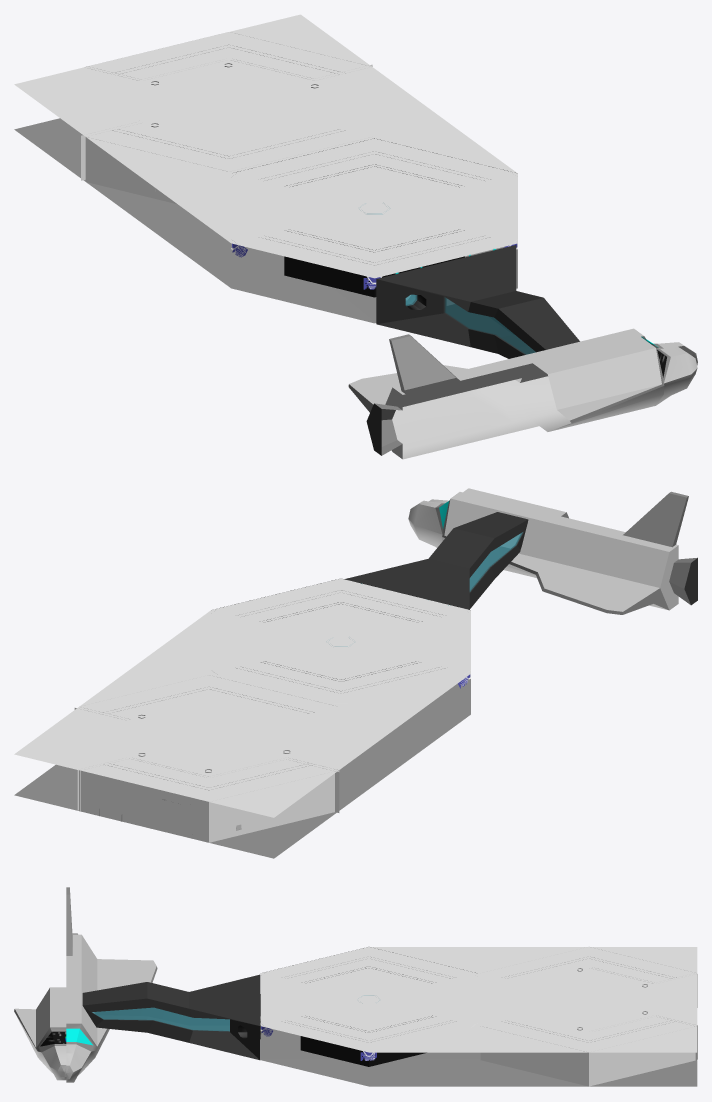
File: completed_maya_scene.fbx
3 views of the same model, one above another, from view 1: azimuth 30°, elevation 25°; view 2: azimuth 150°, elevation 25°; view 3: azimuth 270°, elevation 25° (orthographic). The views are drawn at different scales.
Parts seen in each view (by area): view 1: floor_plate2, Shuttle:pCylinder7, polySurface233, floor_plate1, cockpit, wall_room1, wall_inner_room_room2, polySurface234; view 2: floor_plate2, Shuttle:pCylinder7, floor_plate1, wall_room1, polySurface233, cockpit, polySurface234; view 3: floor_plate2, polySurface233, floor_plate1, Shuttle:pCylinder7, wall_room1, cockpit, polySurface234, wall_inner_room_room2.
Boxes of the visible parts, box(x1,y1,x2,y2) form: floor_plate2: box(14, 14, 517, 278); Shuttle:pCylinder7: box(348, 328, 697, 459); polySurface233: box(376, 245, 579, 358); floor_plate1: box(14, 118, 517, 323); cockpit: box(509, 337, 697, 431); wall_room1: box(85, 33, 369, 204); wall_inner_room_room2: box(284, 164, 464, 297); polySurface234: box(444, 297, 535, 354); floor_plate2: box(14, 578, 470, 817); Shuttle:pCylinder7: box(408, 491, 697, 614); floor_plate1: box(14, 679, 470, 858); wall_room1: box(79, 675, 338, 842); polySurface233: box(344, 512, 528, 609); cockpit: box(429, 488, 568, 518); polySurface234: box(469, 532, 522, 591); floor_plate2: box(260, 947, 697, 1052); polySurface233: box(82, 974, 260, 1060); floor_plate1: box(260, 1028, 697, 1086); Shuttle:pCylinder7: box(66, 887, 157, 1082); wall_room1: box(480, 947, 697, 1086); cockpit: box(14, 987, 66, 1080); polySurface234: box(92, 1007, 229, 1031); wall_inner_room_room2: box(300, 967, 432, 1066).
Size of the model in its own units: 23.66 by 8.1 by 54.68.
